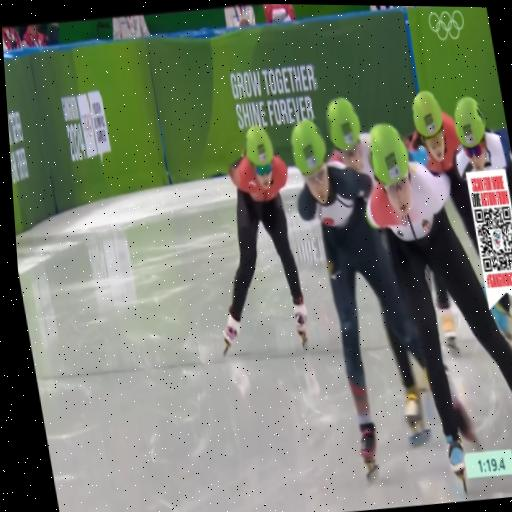Skater: (367, 124, 511, 488), (291, 121, 425, 476), (224, 127, 307, 353), (412, 91, 478, 251), (454, 97, 511, 203), (454, 97, 511, 202), (326, 98, 375, 182), (388, 331, 426, 432)
